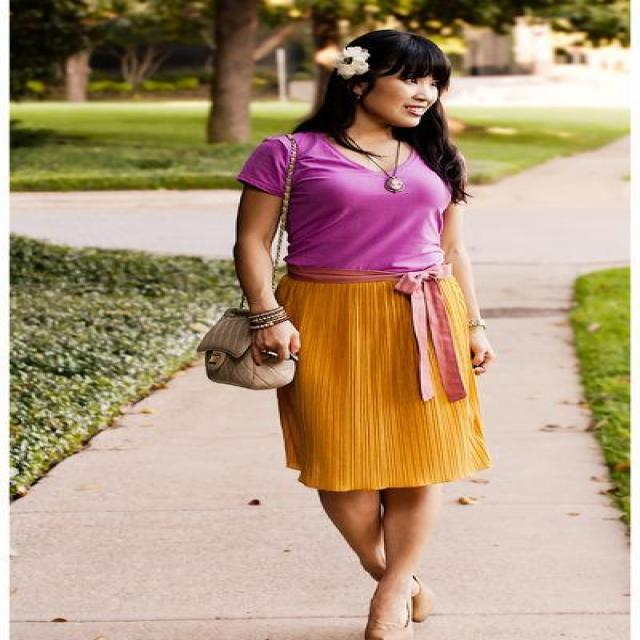bag: (197, 224, 293, 390)
shirt: (238, 133, 458, 266)
shoe: (363, 602, 424, 639)
skirt: (274, 280, 490, 498)
